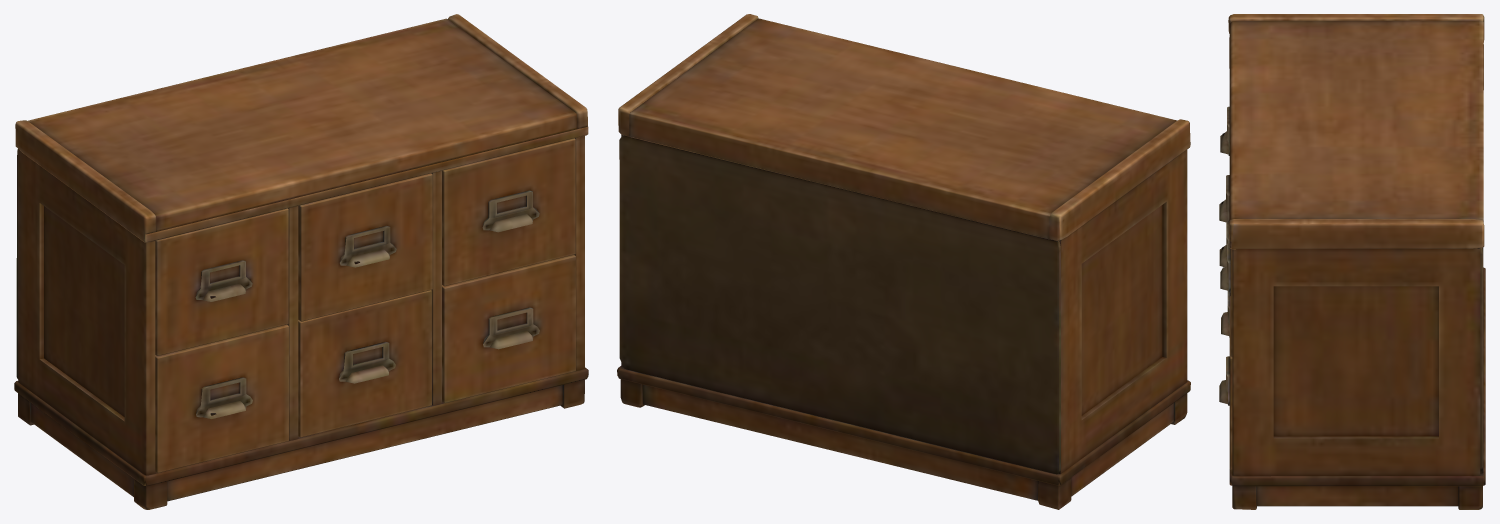
File: vintage_wooden_drawer_01.gltf
3 views of the same model, side by side, from view 1: azimuth 30°, elevation 25°; view 2: azimuth 150°, elevation 25°; view 3: azimuth 270°, elevation 25° (orthographic). The views are drawn at different scales.
Size of the model in its own units: 0.8566 by 0.5454 by 0.4569.
Materials: 1 (1 with a texture image).
